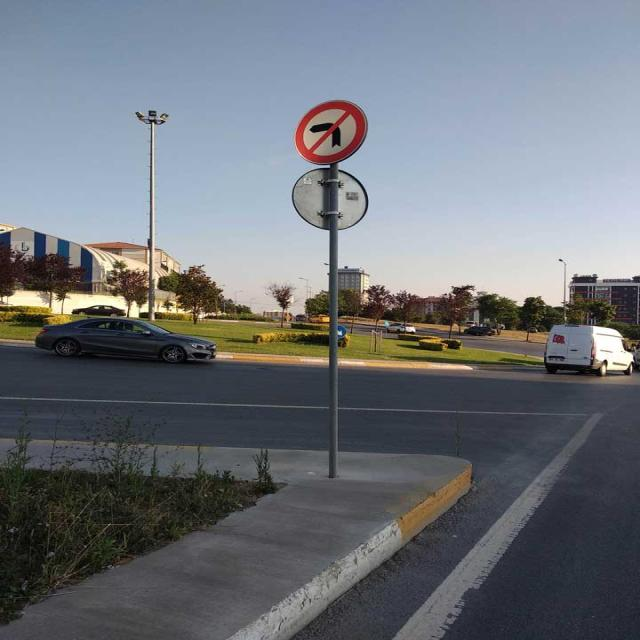soladonulmez: (293, 100, 368, 164)
